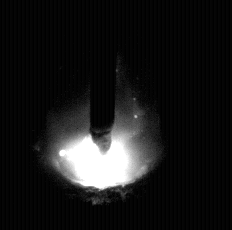arame: (90, 0, 115, 153)
poca: (47, 0, 160, 230)
